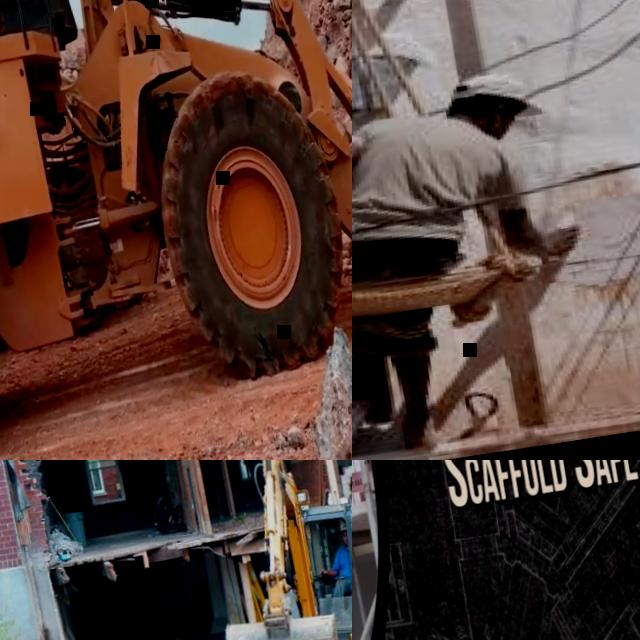Hardhat: (438, 63, 533, 120)
NO-Hardhat: (338, 520, 351, 532)
NO-Mask: (481, 109, 513, 140), (344, 539, 350, 547)
NO-Safety Vest: (352, 105, 488, 258), (335, 542, 352, 577)
Person: (352, 57, 600, 460), (310, 518, 352, 620), (239, 460, 266, 494)
vehicle: (0, 0, 352, 460), (194, 460, 352, 640)
